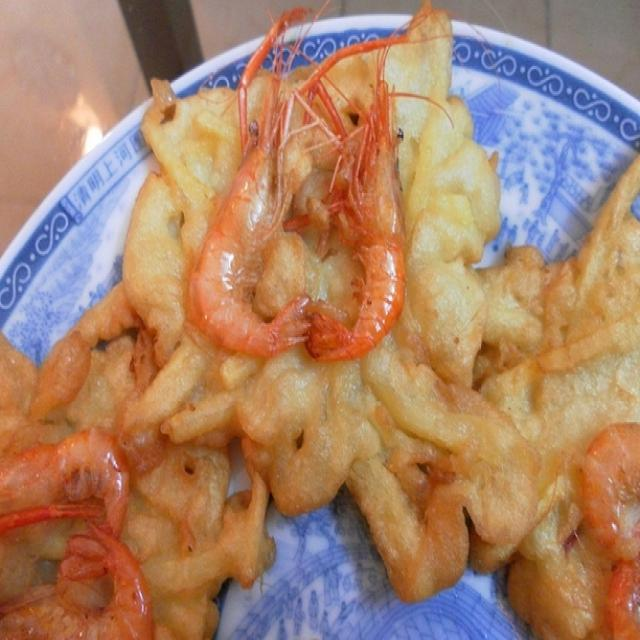炸货点心: (9, 17, 634, 621)
熟制海鲜: (9, 17, 634, 621)
